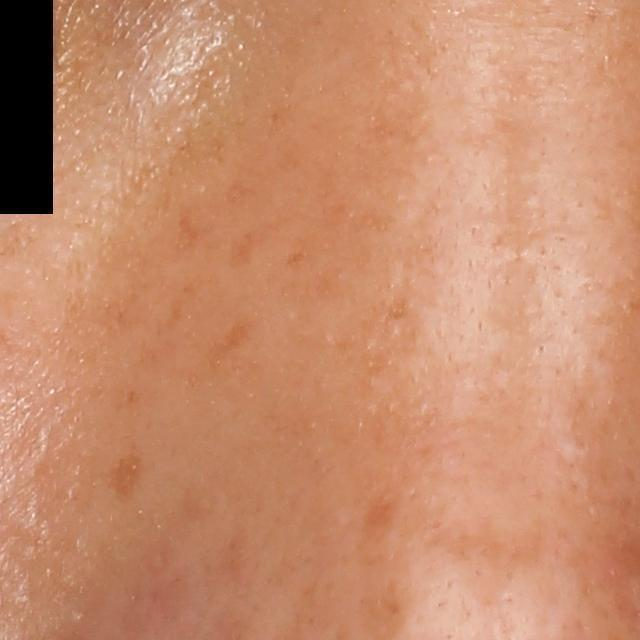melasma: (442, 517, 556, 581), (305, 162, 397, 239), (353, 489, 404, 555), (207, 319, 256, 368), (107, 451, 143, 506), (227, 230, 267, 269), (177, 203, 204, 242), (282, 248, 309, 268)
